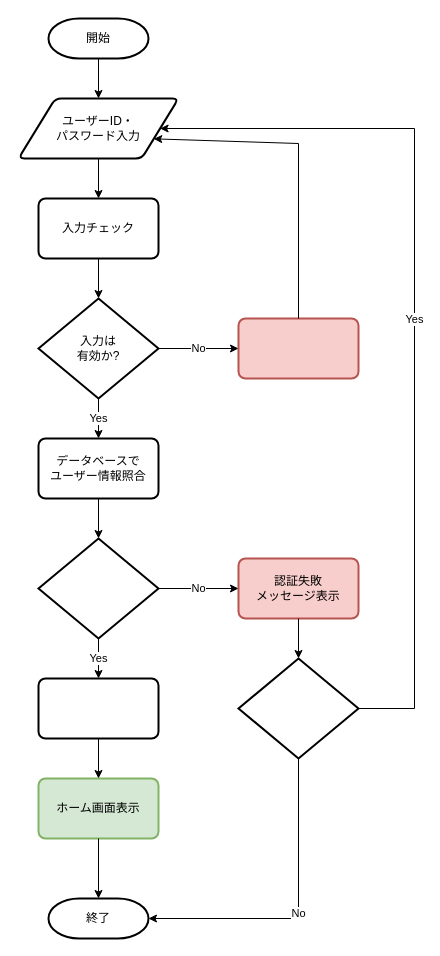
The diagram is 440 pixels wide and 956 high, and some of its shapes have lost their labels. The box of each missing label's shape, as (x1, y1, x2, y2) in pixels:
エラー メッセージ表示: (237, 317, 359, 379)
セッション作成: (37, 677, 159, 739)
リトライ する?: (237, 657, 359, 759)
認証 成功?: (37, 537, 159, 639)
